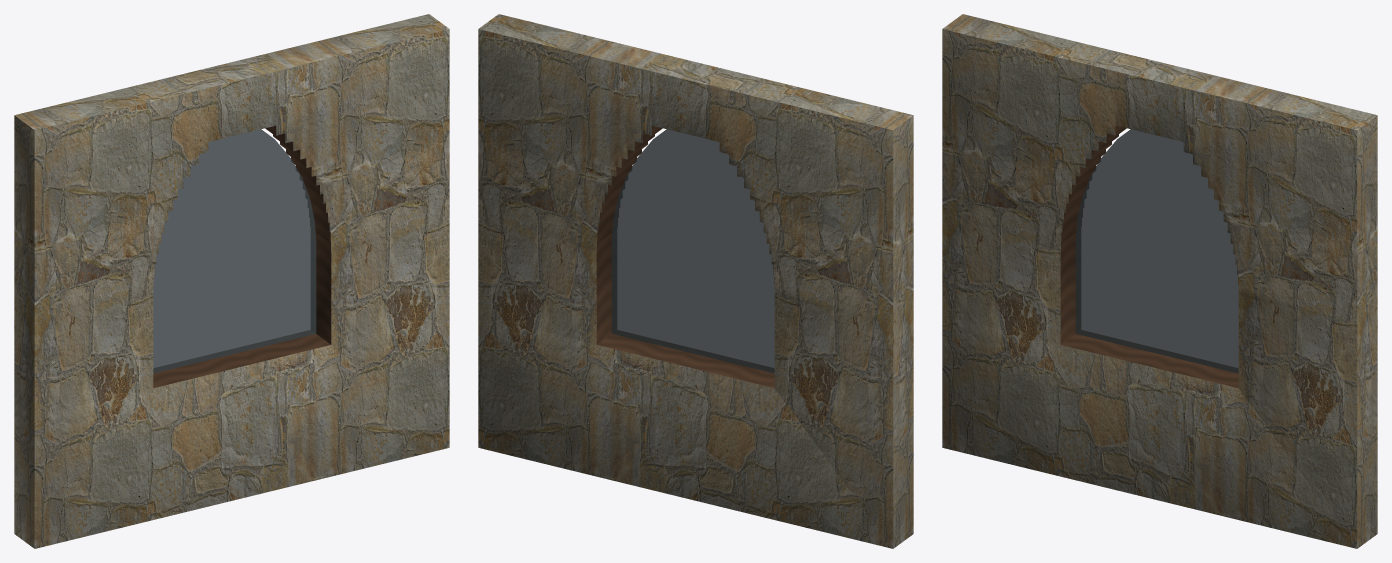
File: opening_arch_window.glb
The picture shows the model from 3 angles, left to right: view 1: azimuth 30°, elevation 25°; view 2: azimuth 150°, elevation 25°; view 3: azimuth 330°, elevation 25°; orthographic projection.
Visible parts, largest first — view 1: opening_arch_window_0; view 2: opening_arch_window_0; view 3: opening_arch_window_0.
Part boxes in pixels (x1,y1,x2,y2): opening_arch_window_0: [14, 14, 449, 548]; opening_arch_window_0: [478, 14, 913, 548]; opening_arch_window_0: [942, 14, 1377, 548].
Size of the model in its own units: 2.8 by 2.7 by 0.24.
3 materials, 2 textured.
